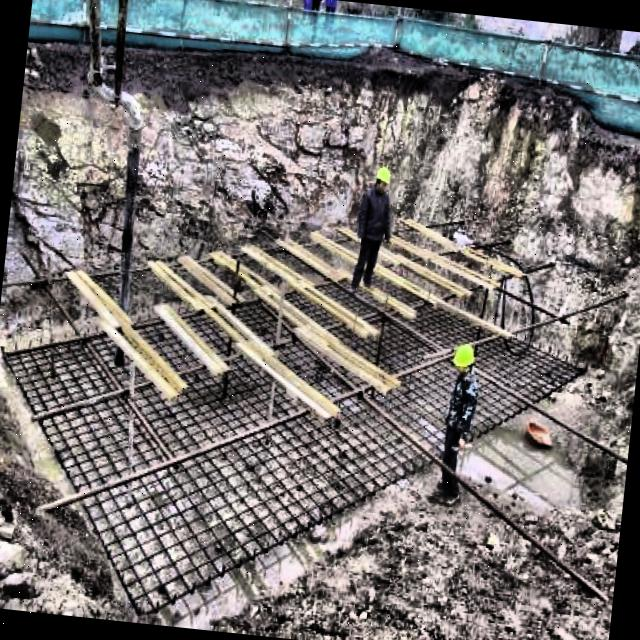helmet: (446, 338, 480, 381), (370, 162, 396, 196)
